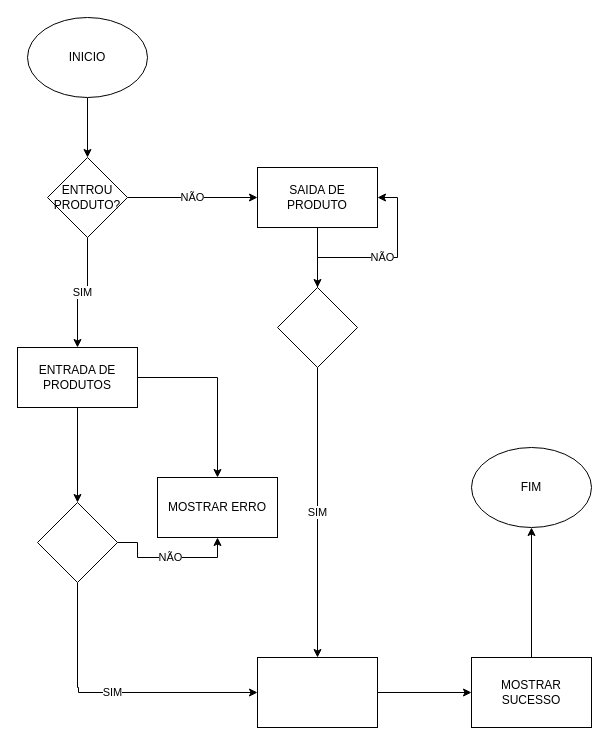
The diagram is 609 pixels wide and 745 high, and some of its shapes have lost their labels. Here are the shapes that lost their labels. From the top down, the box of each, then its label:
(276, 286, 358, 368): ENTRADA DE DADOS
(36, 502, 118, 582): DADOS VALIDOS
(256, 656, 378, 728): ALTERAR ESTOQUE
